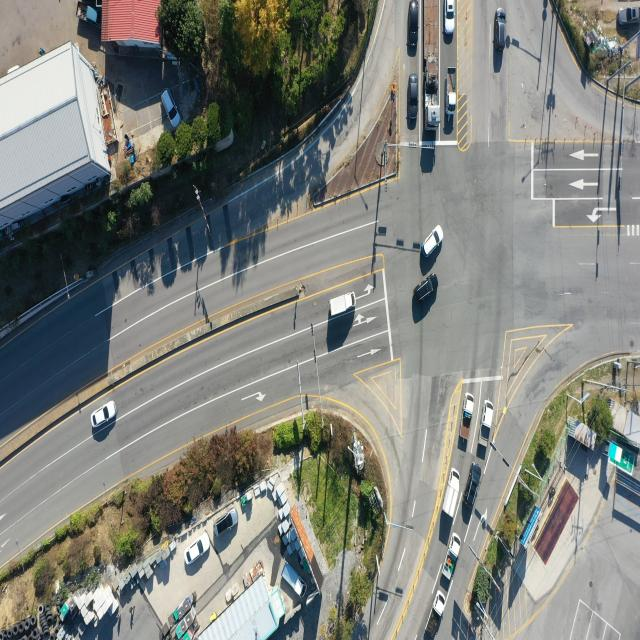car: (180, 530, 209, 571), (462, 462, 481, 515), (414, 273, 439, 305), (161, 90, 179, 132), (93, 402, 117, 430), (614, 6, 640, 31), (215, 510, 238, 538), (422, 228, 442, 260), (406, 0, 418, 52), (410, 75, 420, 126), (497, 7, 507, 49), (446, 0, 455, 34)
large_truck: (425, 0, 440, 128)
small_truck: (419, 589, 446, 640), (439, 466, 461, 520), (280, 560, 310, 597), (461, 394, 477, 454), (442, 534, 460, 579), (329, 291, 357, 319), (480, 399, 496, 448), (74, 0, 98, 26), (448, 66, 458, 116)
